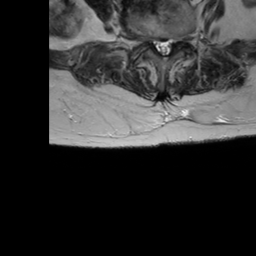CCS_stenosis: (160, 34, 168, 62)
LFS_stenosis: (174, 30, 182, 46)
LLS_stenosis: (167, 34, 174, 56)
RFS_severe_stenosis: (144, 31, 153, 51)
RLS_stenosis: (153, 33, 161, 55)
